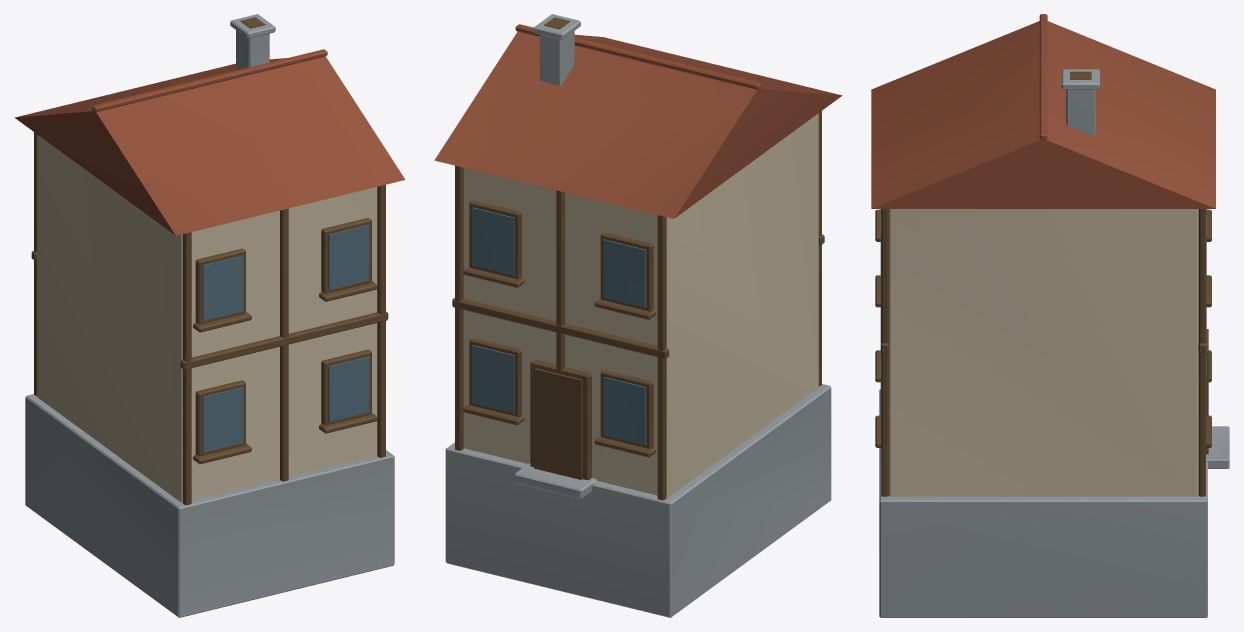
The model's file is house-two-storey.glb.
3 renders of one model, left to right at view 1: azimuth 30°, elevation 25°; view 2: azimuth 150°, elevation 25°; view 3: azimuth 270°, elevation 25°, orthographic. The views are drawn at different scales.
Parts seen in each view (by area): view 1: house walls.001, stone foundation.001, pitched roof.001, chimney opening.001, window glass.008; view 2: house walls.001, stone foundation.001, pitched roof.001, chimney opening.001, window glass.008; view 3: house walls.001, pitched roof.001, stone foundation.001, chimney opening.001, window glass.008.
Boxes of the visible parts, box(x1,y1,x2,y2) form: house walls.001: box(37, 134, 377, 502); stone foundation.001: box(25, 14, 394, 617); pitched roof.001: box(15, 49, 405, 235); chimney opening.001: box(31, 17, 388, 505); window glass.008: box(202, 224, 369, 452); house walls.001: box(463, 113, 818, 497); stone foundation.001: box(445, 14, 831, 617); pitched roof.001: box(434, 24, 842, 218); chimney opening.001: box(452, 17, 824, 500); window glass.008: box(472, 207, 646, 445); house walls.001: box(888, 209, 1198, 496); pitched roof.001: box(871, 14, 1215, 208); stone foundation.001: box(879, 69, 1229, 617); chimney opening.001: box(875, 71, 1211, 496); window glass.008: box(880, 209, 1206, 435).
Bounding box in the file's own units: 4.63 × 9.22 × 5.78.
